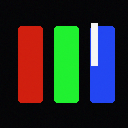4 line_v: (91, 23, 97, 65)
